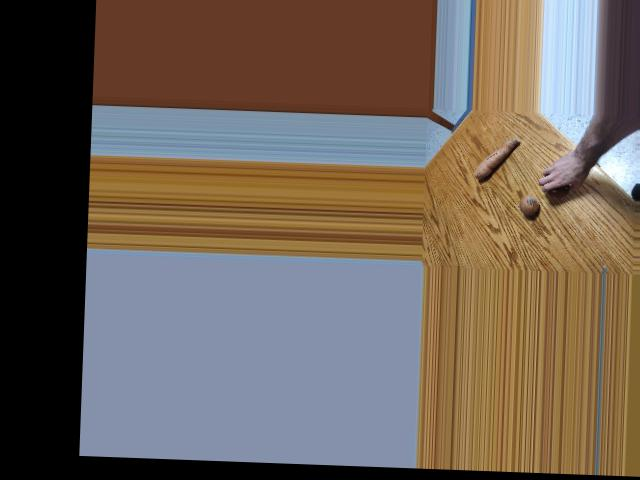onion: (547, 174, 571, 196)
